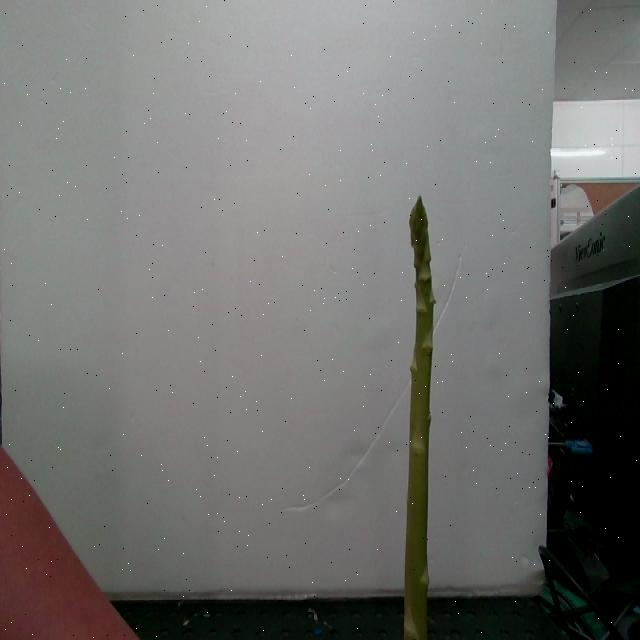aspargus: (403, 200, 435, 640)
